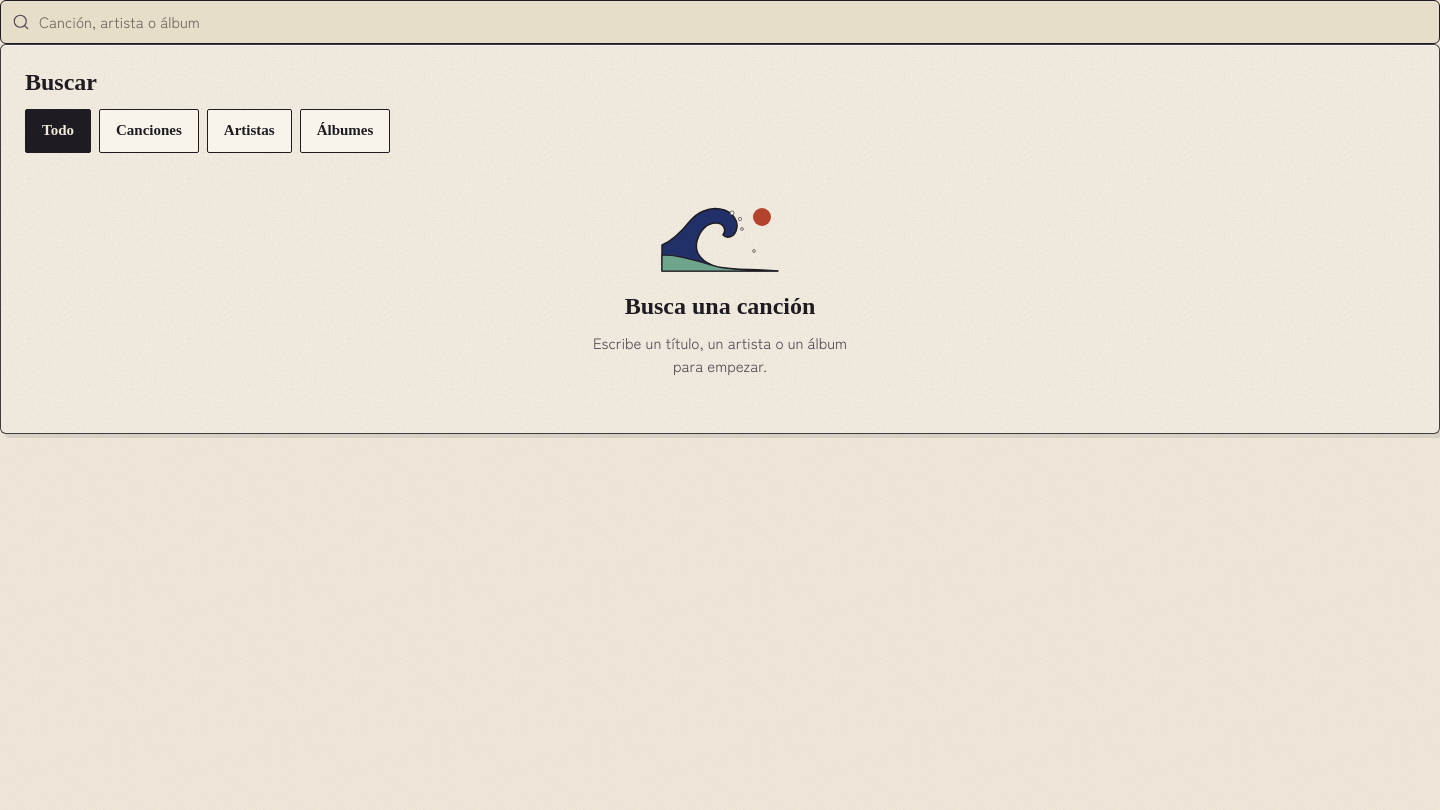
Test: SearchPanel › shows the initial prompt, the filters and a clear button
Expected: the heading "Busca una canción" is shown, [625, 293, 815, 320]
Expected: the element named "Filtrar resultados" is shown, [25, 109, 390, 153]
Type "abc" into the search field named "Buscar".
click(720, 22); type("abc")  # box [0, 0, 1439, 44]
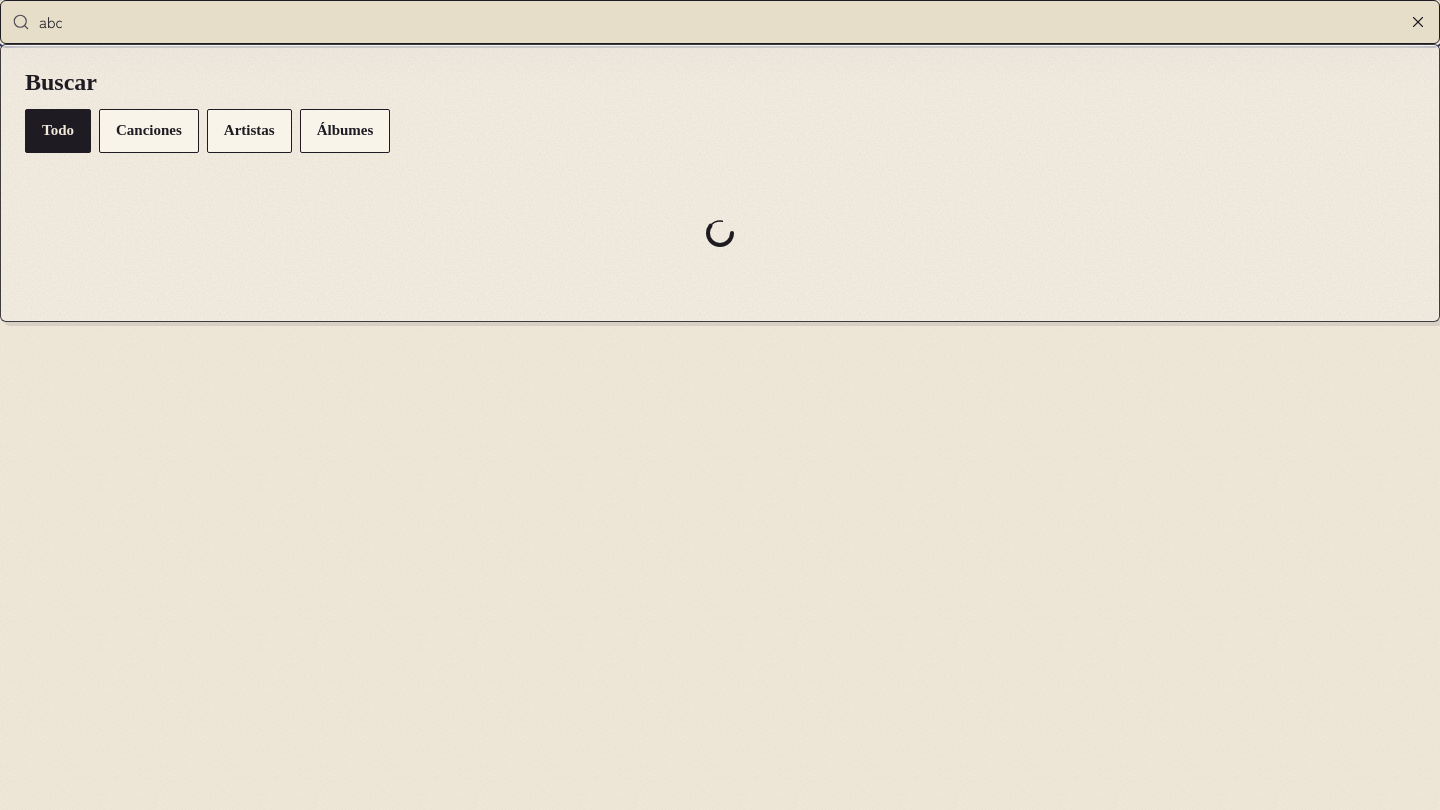
Click the button named "Borrar búsqueda".
click(1418, 22)  # box [1396, 0, 1439, 44]
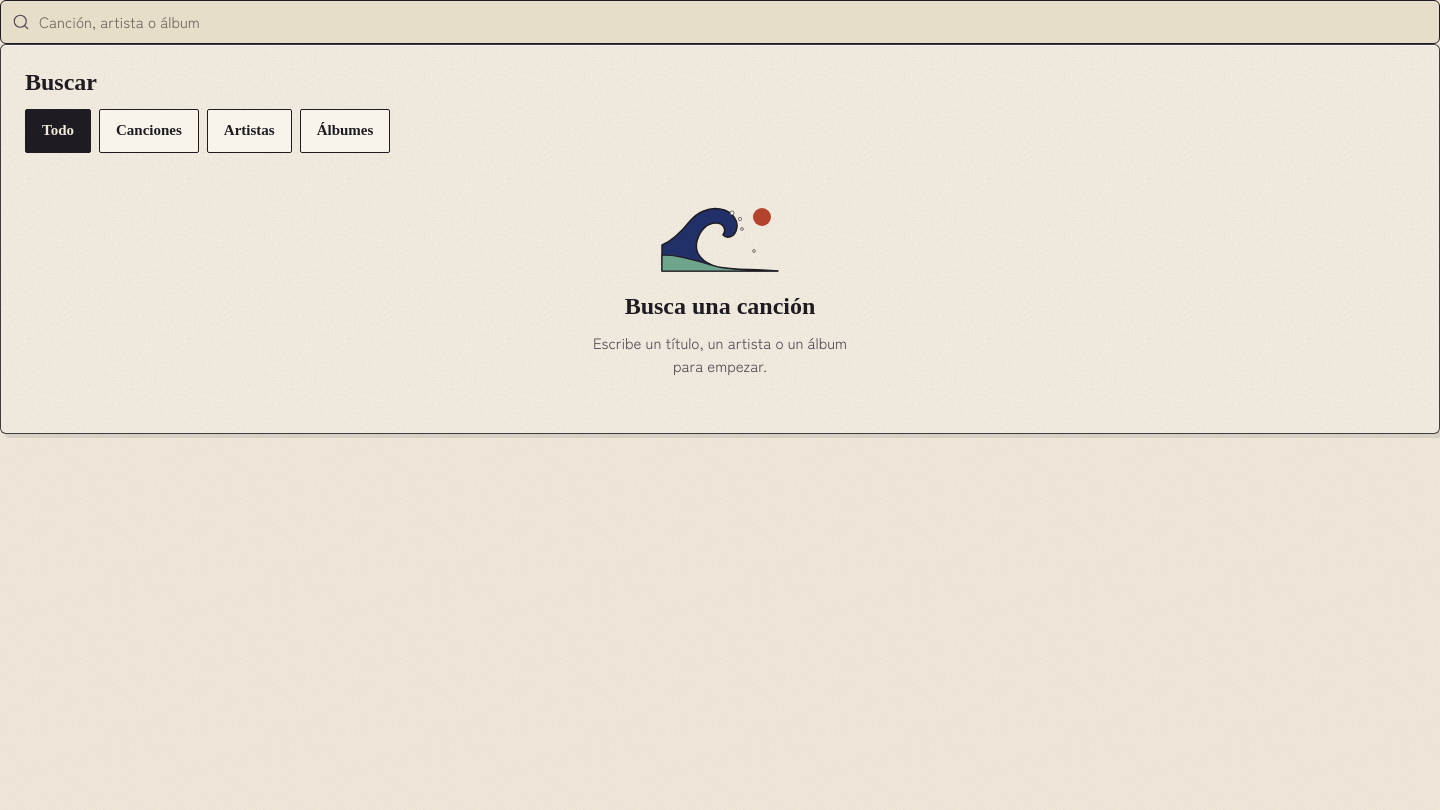
Now the search field named "Buscar" is empty, box [0, 0, 1439, 44]
